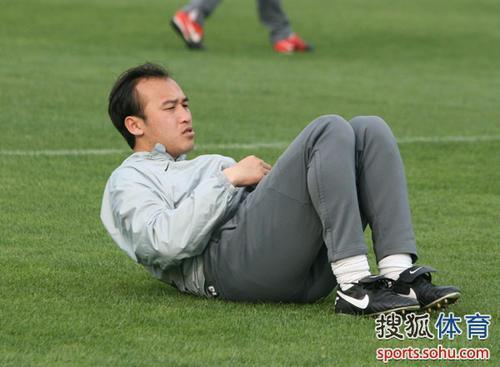Fall-Detected: (93, 48, 465, 321)
